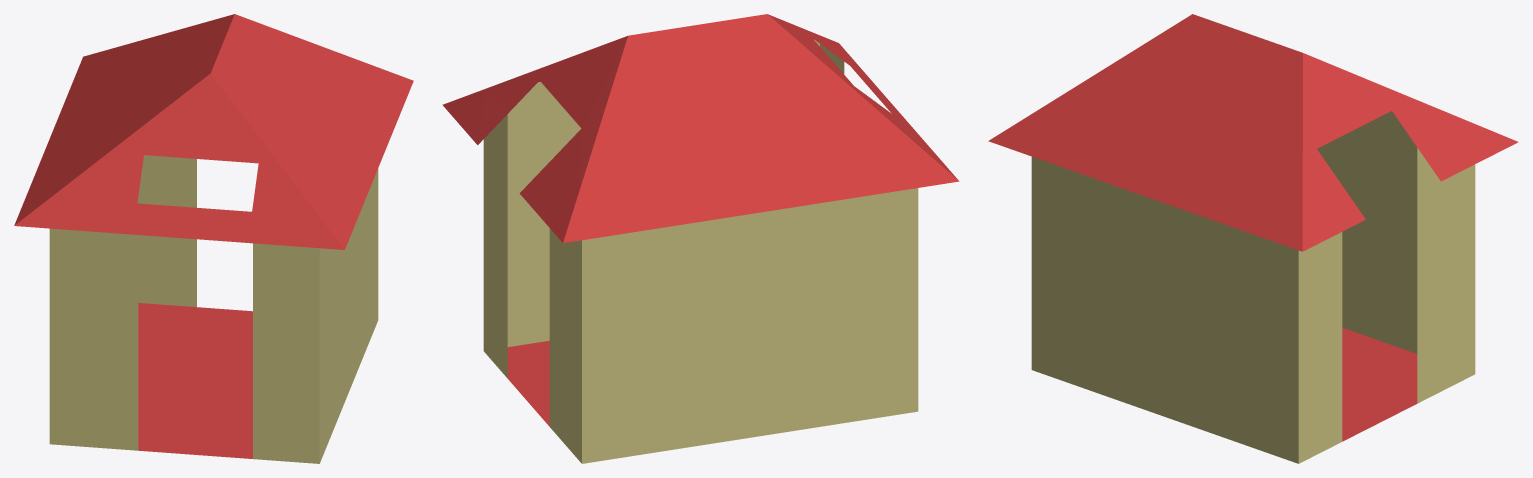
3 views of the same model, side by side, from view 1: azimuth 30°, elevation 25°; view 2: azimuth 150°, elevation 25°; view 3: azimuth 270°, elevation 25° (orthographic). The views are drawn at different scales.
Visible parts, largest first — view 1: group_3, group_5, group_6, group_4; view 2: group_5, group_3, group_6, group_4; view 3: group_5, group_3, group_6, group_4.
Part boxes in pixels (x1,y1,x2,y2): group_3: (14,14,413,249); group_5: (49,155,378,463); group_6: (138,303,252,458); group_4: (253,205,337,246); group_5: (483,39,918,463); group_3: (442,14,959,243); group_6: (507,340,549,426); group_4: (443,38,847,194); group_5: (1031,111,1475,463); group_3: (988,14,1518,251); group_6: (1342,327,1417,441); group_4: (1302,124,1465,250).
Size of the model in its own units: 16.8 by 17.09 by 12.14.
